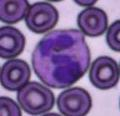N: (32, 28, 90, 88)
